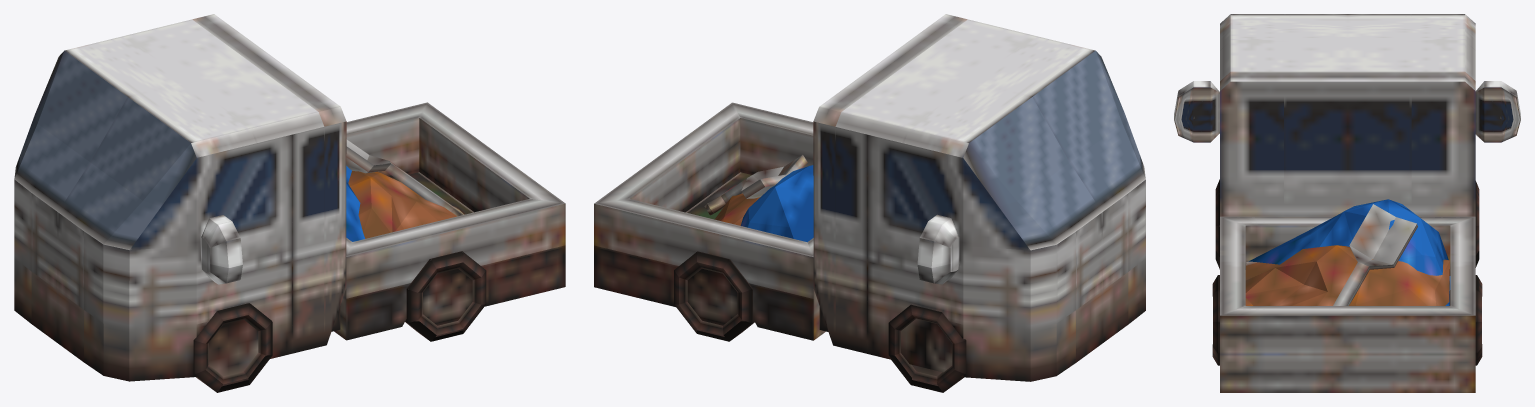
File: Poly_SF_Outside_B_Truck_01.obj
3 views of the same model, side by side, from view 1: azimuth 30°, elevation 25°; view 2: azimuth 150°, elevation 25°; view 3: azimuth 270°, elevation 25° (orthographic). The views are drawn at different scales.
Visible parts, largest first — view 1: Cube.007, Cube.002, Cube.008, Cube.001, Cube.004, Cube.005, Cube.003; view 2: Cube.007, Cube.002, Cube.008, Cube.001, Cube.003, Cube.005, Cube.004; view 3: Cube.007, Cube.002, Cube.004, Cube.008, Cube.003, Cube.005, Cube.001.
Part boxes in pixels (box(x1,y1,x2,y2)): Cube.007: box(14, 14, 346, 381); Cube.002: box(334, 102, 565, 340); Cube.008: box(193, 215, 272, 392); Cube.001: box(405, 251, 486, 341); Cube.004: box(348, 171, 456, 238); Cube.005: box(346, 139, 464, 216); Cube.003: box(346, 166, 365, 241); Cube.007: box(813, 14, 1145, 381); Cube.002: box(594, 102, 825, 340); Cube.008: box(888, 214, 966, 392); Cube.001: box(674, 251, 754, 341); Cube.003: box(741, 165, 813, 242); Cube.005: box(704, 155, 807, 215); Cube.004: box(714, 193, 760, 225); Cube.007: box(1220, 14, 1475, 216); Cube.002: box(1220, 216, 1475, 392); Cube.004: box(1245, 245, 1449, 305); Cube.008: box(1174, 81, 1520, 269); Cube.003: box(1248, 199, 1449, 293); Cube.005: box(1333, 204, 1417, 305); Cube.001: box(1212, 275, 1482, 365).
Size of the model in its own units: 2.2 by 1.2 by 1.63.
1 material, 1 textured.
